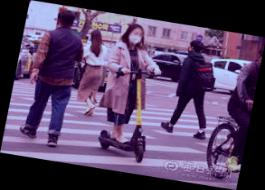nonhelmet: (84, 19, 177, 164)
